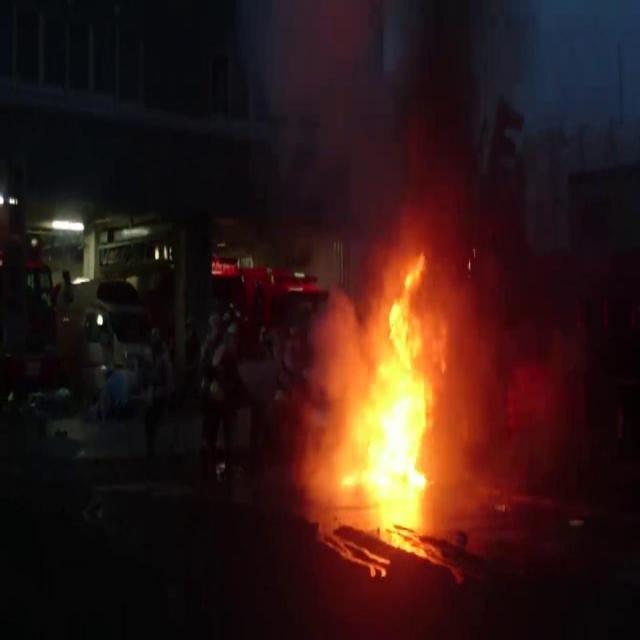Fire: (330, 254, 432, 493)
Smoke: (245, 8, 497, 242)
